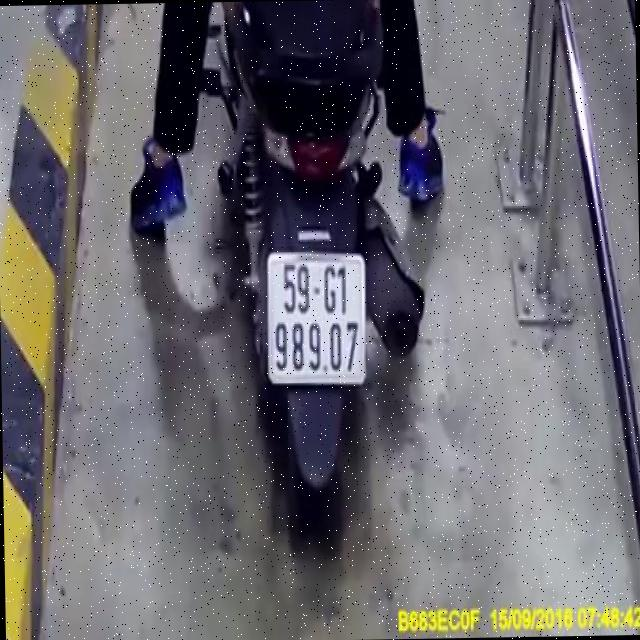license_plate: (264, 250, 369, 388)
